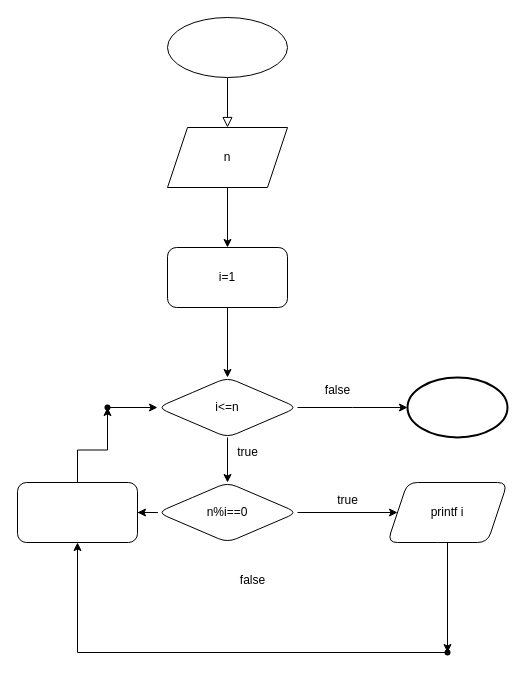
Image size: 526x680. Some labels were removed from this diagram. The shapes that lost their labels are listed below. From the top down, each one's centre as x and y in pixels, then its label:
[227,47]: star
[457,407]: end
[77,512]: i=i+1
